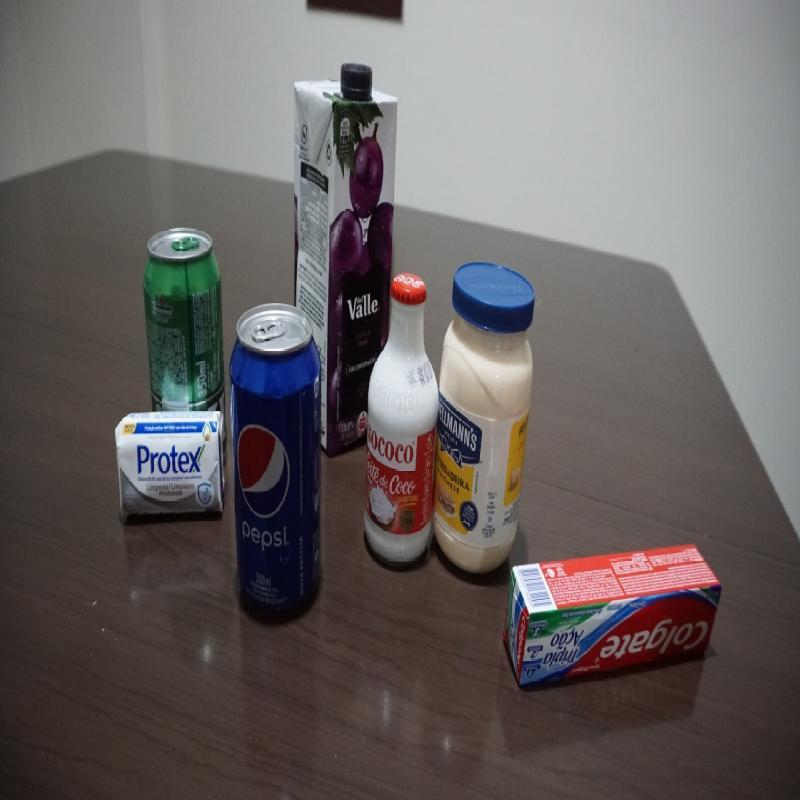Beer can: (144, 220, 226, 411)
Coconut Milk: (368, 274, 432, 566)
Mayonnaise: (441, 254, 532, 558)
Soap: (113, 411, 225, 528)
Soda can: (228, 303, 321, 618)
Toothpaste: (508, 560, 726, 689)
